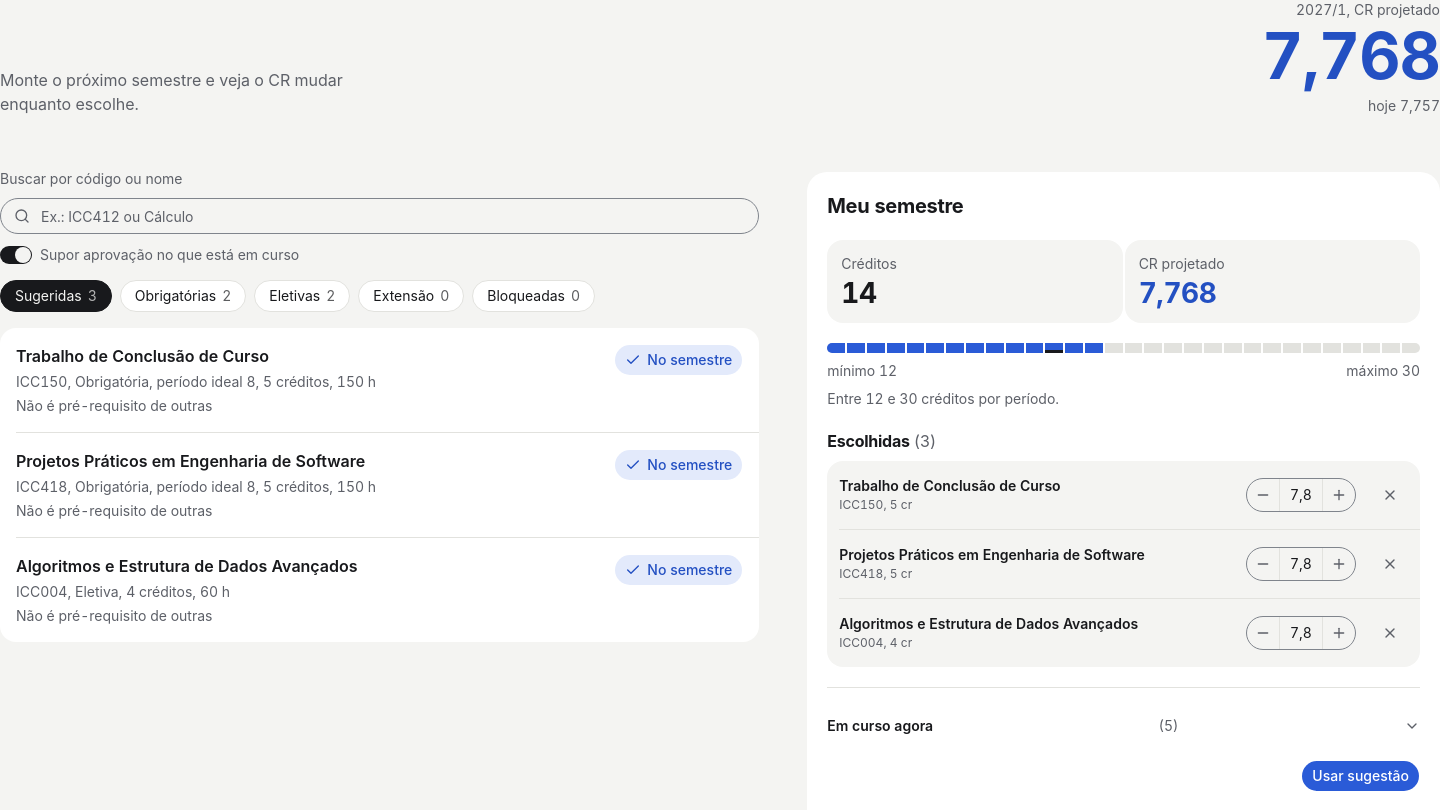
PlanningScreen › names the catalog buttons after the course, and keeps the visible text
The image size is (1440, 810).
Click the radio button named "Eletivas,": (302, 296) [254,280,350,312]
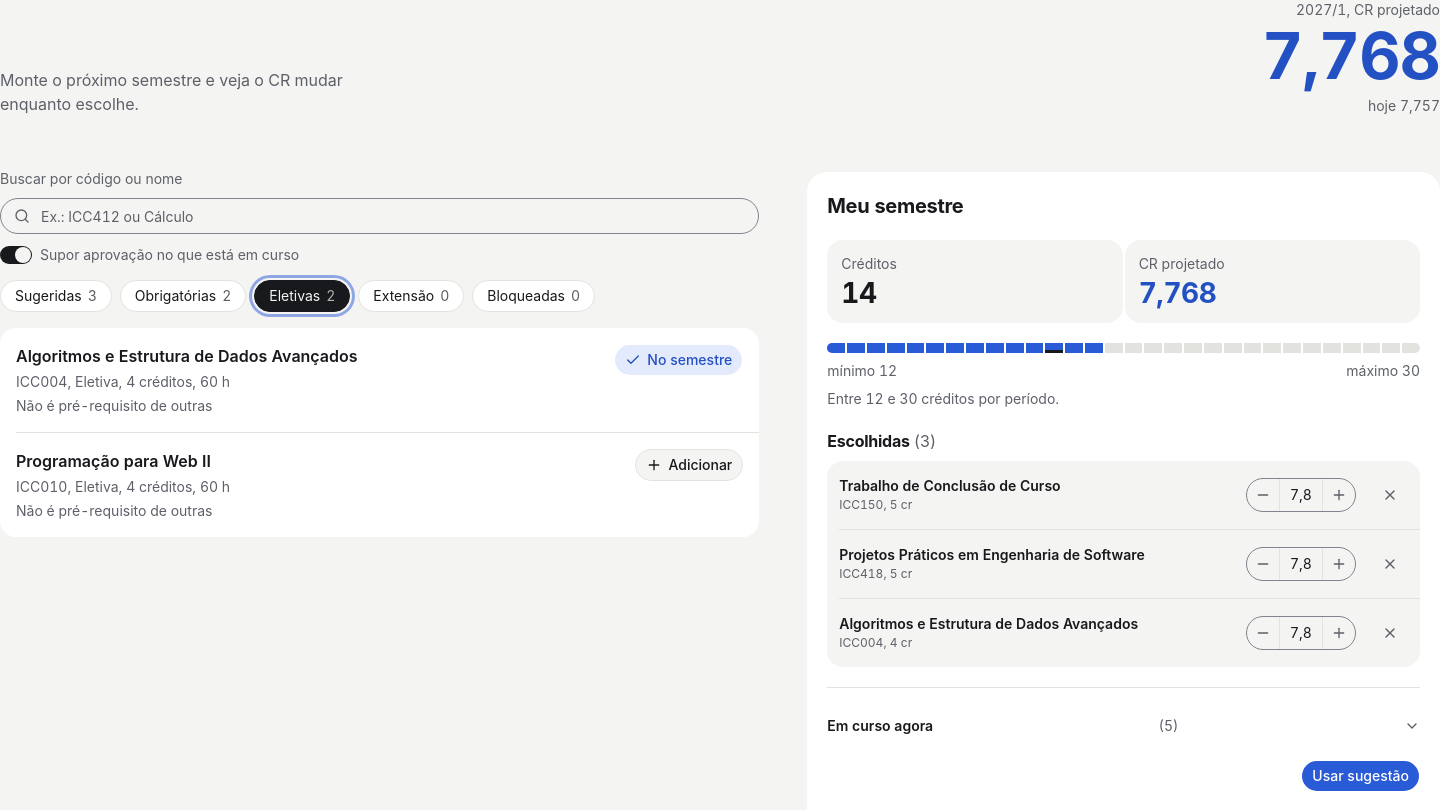
Result: the button with aria-label "Adicionar Programação para Web II ao semestre" reads "Adicionar"
Click the button with aria-label "Adicionar Programação para Web II ao semestre": (689, 465) [635,449,743,481]
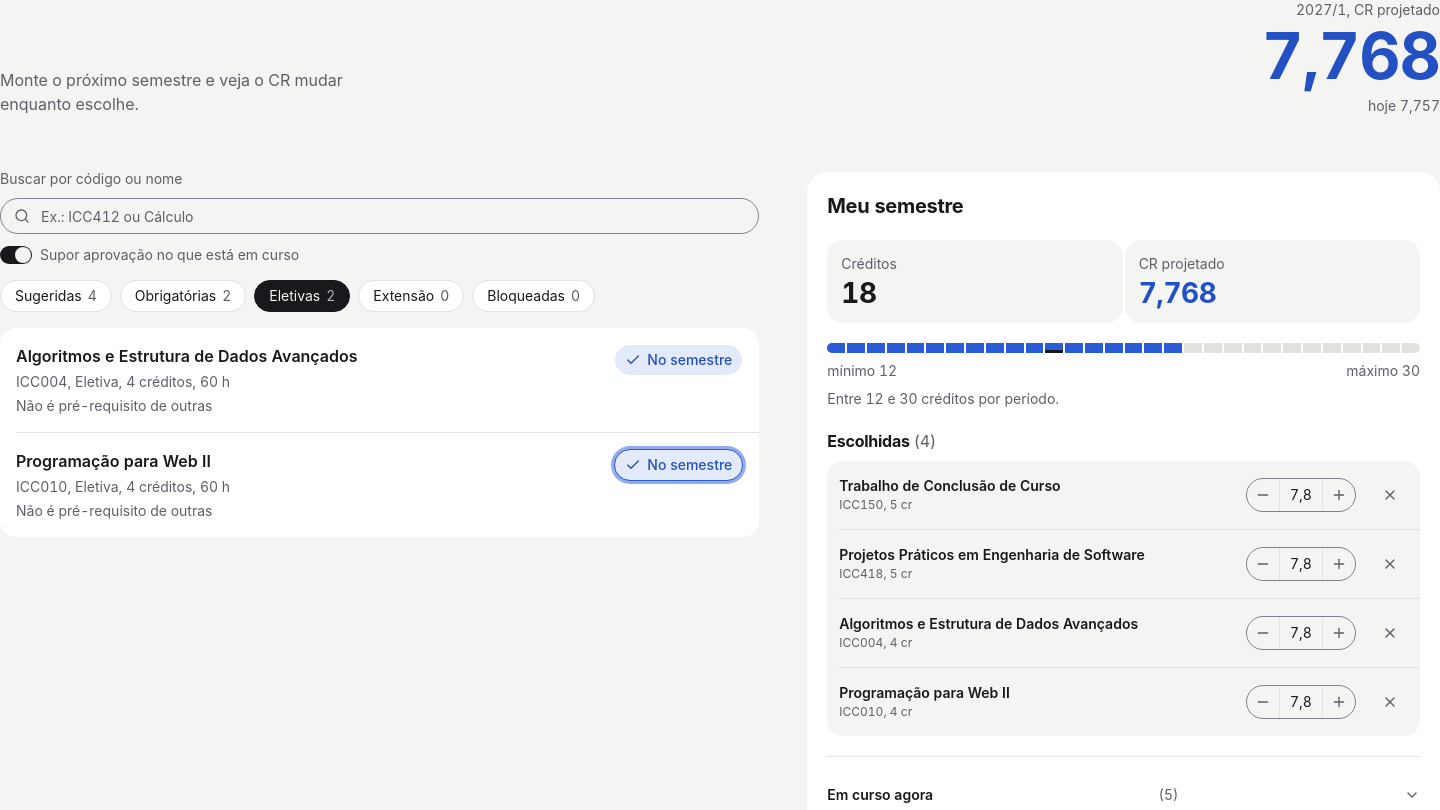
Result: the button with aria-label "Remover Programação para Web II do semestre" reads "No semestre" at [614,449,743,481]
